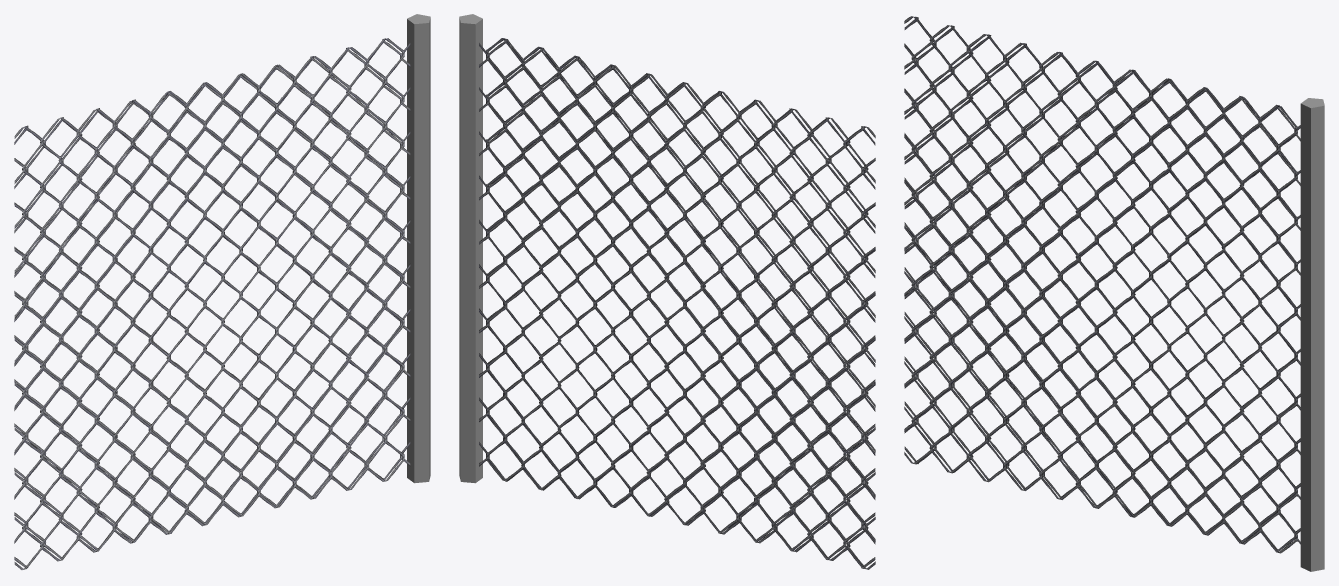
The model's file is env_fence_b.fbx.
3 views of the same model, side by side, from view 1: azimuth 30°, elevation 25°; view 2: azimuth 150°, elevation 25°; view 3: azimuth 330°, elevation 25° (orthographic).
Visible parts, largest first — view 1: fence_b; view 2: fence_b; view 3: fence_b.
Part boxes in pixels (bbox=[...]): fence_b: bbox=[14, 14, 430, 569]; fence_b: bbox=[459, 14, 875, 569]; fence_b: bbox=[904, 16, 1324, 571].
Bounding box in the file's own units: 39.66 × 41.8 × 2.01.
